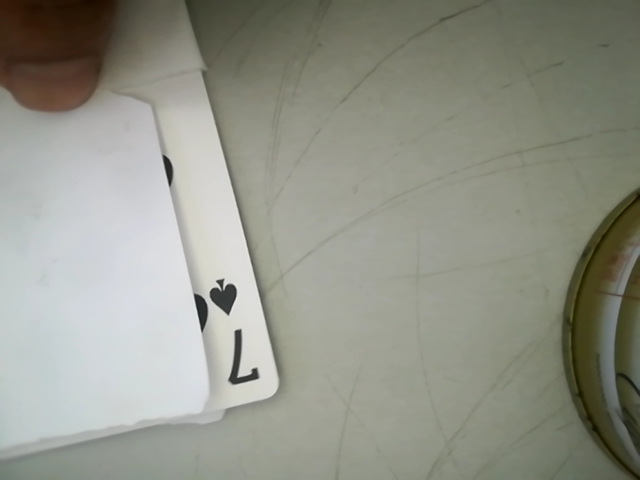ht 7: (191, 261, 272, 396)
